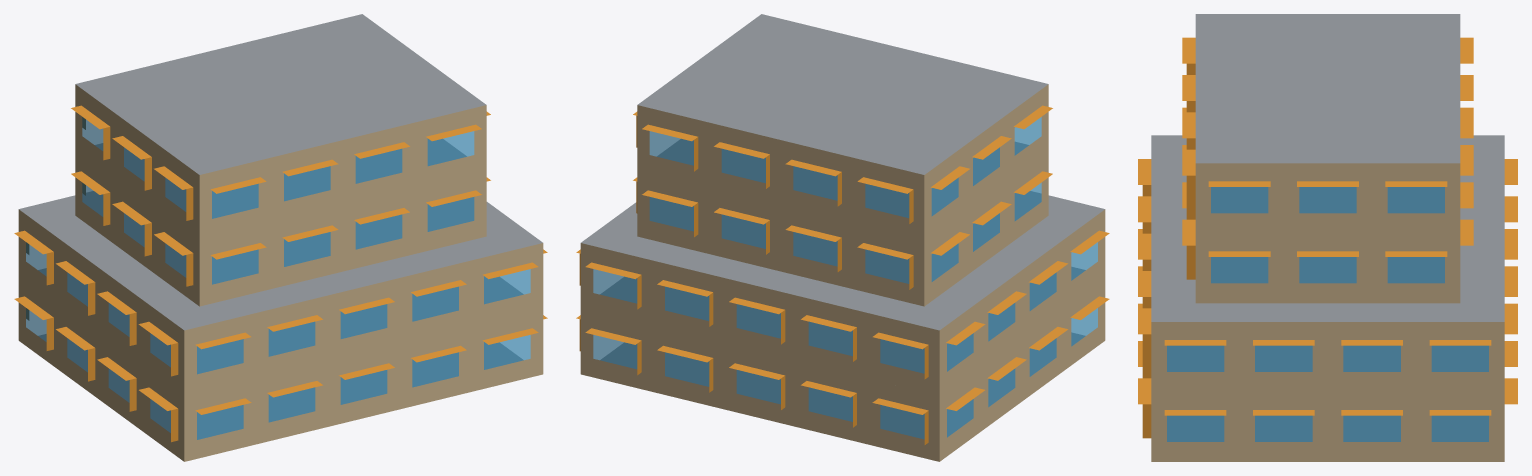
Rendered from building_backup.glb.
3 views of the same model, side by side, from view 1: azimuth 30°, elevation 25°; view 2: azimuth 150°, elevation 25°; view 3: azimuth 270°, elevation 25° (orthographic). The views are drawn at different scales.
Parts seen in each view (by area): view 1: TOP_ROOF, TERRACE_2, FLOOR_L02, FLOOR_L01, FLOOR_L04, FLOOR_L03, TERRACE_3, L04_S_B03_WALL_1, L02_S_B02_WALL_1, L02_S_B01_WALL_1, L01_S_B02_WALL_1, L01_S_B01_WALL_1 (+79 smaller); view 2: TOP_ROOF, TERRACE_1, FLOOR_L02, FLOOR_L01, FLOOR_L04, FLOOR_L03, TERRACE_3, L02_N_B04_WALL_1, L01_N_B04_WALL_1, L04_N_B01_WALL_1, L03_N_B01_WALL_1, L01_N_B05_WALL_1 (+93 smaller); view 3: TOP_ROOF, TERRACE_1, TERRACE_2, FLOOR_L02, FLOOR_L01, TERRACE_4, FLOOR_L04, FLOOR_L03, L04_E_B03_WALL_1, L04_E_B01_WALL_1, L03_E_B03_WALL_1, L03_E_B01_WALL_1 (+66 smaller).
Boxes of the visible parts, <box> form: TOP_ROOF: <box>75,14,486,174</box>; TERRACE_2: <box>164,228,542,330</box>; FLOOR_L02: <box>38,268,523,373</box>; FLOOR_L01: <box>39,334,522,439</box>; FLOOR_L04: <box>95,139,466,218</box>; FLOOR_L03: <box>95,205,466,284</box>; TERRACE_3: <box>40,215,198,315</box>; L04_S_B03_WALL_1: <box>271,187,343,223</box>; L02_S_B02_WALL_1: <box>399,307,471,343</box>; L02_S_B01_WALL_1: <box>471,290,543,325</box>; L01_S_B02_WALL_1: <box>399,373,471,409</box>; L01_S_B01_WALL_1: <box>471,356,543,391</box>; TOP_ROOF: <box>637,14,1048,174</box>; TERRACE_1: <box>581,228,959,330</box>; FLOOR_L02: <box>600,267,1085,373</box>; FLOOR_L01: <box>601,333,1084,438</box>; FLOOR_L04: <box>657,139,1028,217</box>; FLOOR_L03: <box>657,205,1028,283</box>; TERRACE_3: <box>925,215,1083,315</box>; L02_N_B04_WALL_1: <box>652,307,724,343</box>; L01_N_B04_WALL_1: <box>652,373,724,409</box>; L04_N_B01_WALL_1: <box>852,204,924,240</box>; L03_N_B01_WALL_1: <box>852,270,924,306</box>; L01_N_B05_WALL_1: <box>580,356,652,391</box>; TOP_ROOF: <box>1195,14,1460,163</box>; TERRACE_1: <box>1460,135,1504,321</box>; TERRACE_2: <box>1151,135,1195,321</box>; FLOOR_L02: <box>1167,346,1488,371</box>; FLOOR_L01: <box>1167,416,1488,441</box>; TERRACE_4: <box>1195,303,1460,321</box>; FLOOR_L04: <box>1211,187,1444,212</box>; FLOOR_L03: <box>1211,257,1444,282</box>; L04_E_B03_WALL_1: <box>1195,213,1283,233</box>; L04_E_B01_WALL_1: <box>1372,213,1460,233</box>; L03_E_B03_WALL_1: <box>1195,283,1283,303</box>; L03_E_B01_WALL_1: <box>1372,283,1460,303</box>.
Bounding box in the file's own units: 21.2 × 14 × 17.2.
